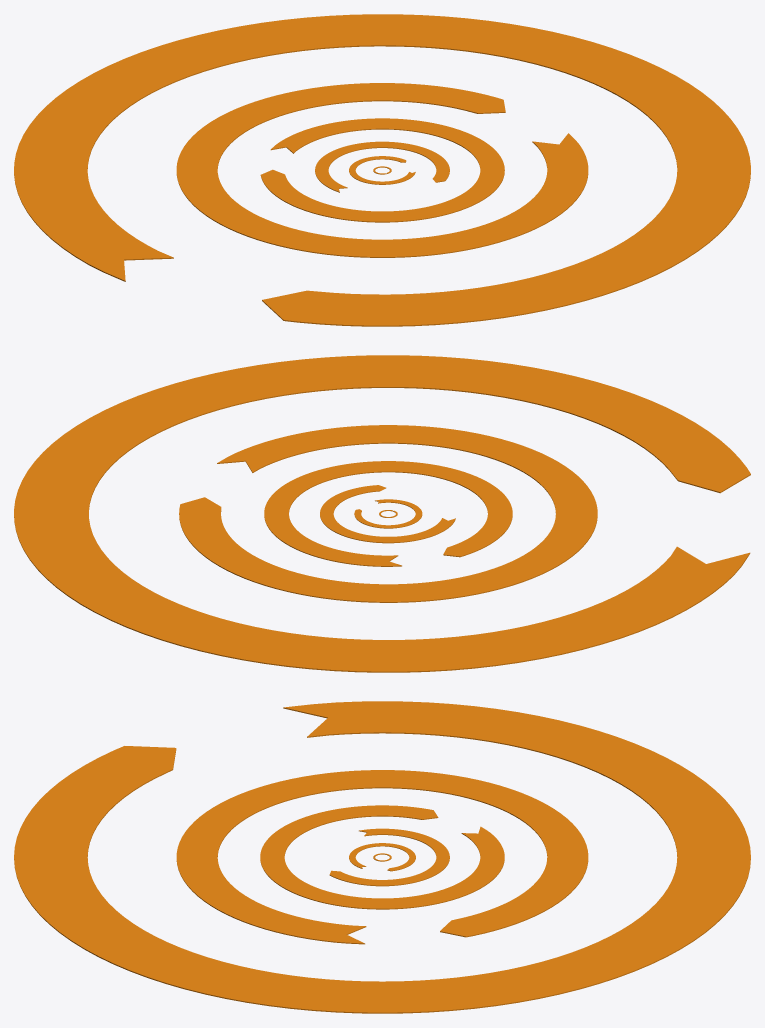
Rendered from hireco_3DScene_v16.glb.
The picture shows the model from 3 angles, top to bottom: view 1: azimuth 30°, elevation 25°; view 2: azimuth 150°, elevation 25°; view 3: azimuth 270°, elevation 25°; orthographic projection.
Visible parts, largest first — view 1: ring_6, ring_5, ring_4, ring_3, ring_2; view 2: ring_6, ring_5, ring_4, ring_3, ring_2; view 3: ring_6, ring_5, ring_4, ring_3, ring_2.
Boxes of the visible parts, x1,y1,x2,y2 form: ring_6: [14, 14, 750, 326]; ring_5: [176, 83, 588, 257]; ring_4: [260, 118, 504, 222]; ring_3: [315, 141, 449, 192]; ring_2: [349, 156, 415, 184]; ring_6: [14, 355, 750, 672]; ring_5: [179, 425, 597, 602]; ring_4: [264, 461, 512, 566]; ring_3: [320, 485, 455, 543]; ring_2: [354, 499, 422, 528]; ring_6: [14, 701, 750, 1013]; ring_5: [176, 770, 588, 944]; ring_4: [260, 805, 504, 909]; ring_3: [329, 828, 449, 886]; ring_2: [349, 843, 415, 871].
Size of the model in its own units: 1.55 by 0.0025 by 1.55.
